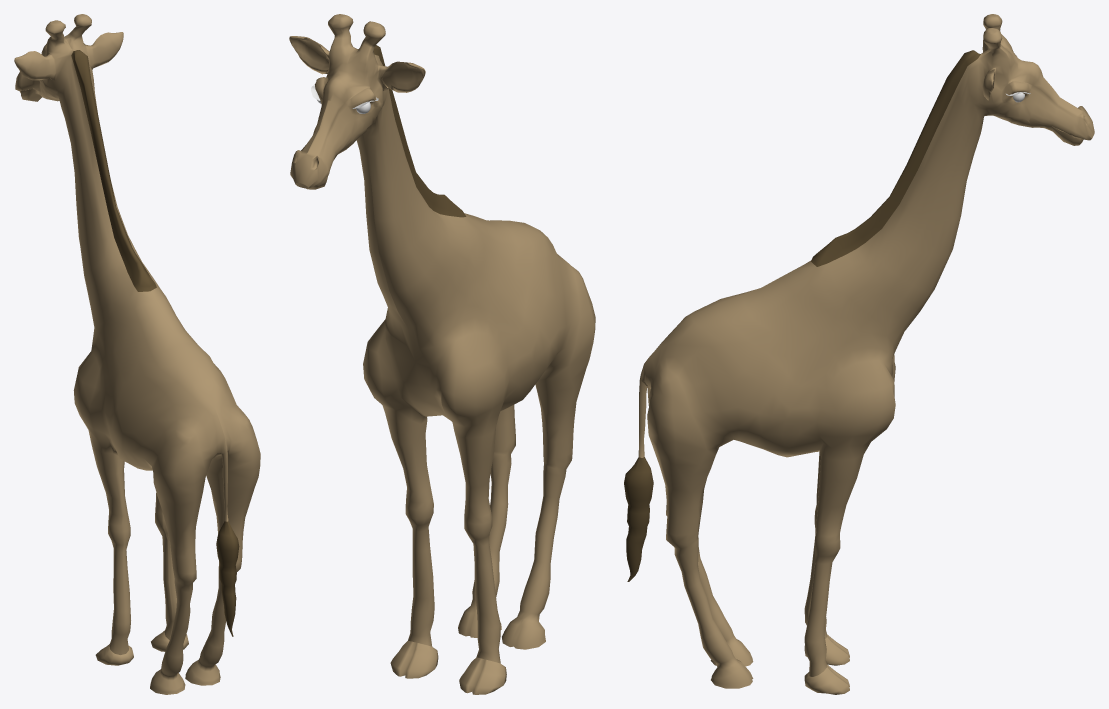
Rendered from CartoonGiraffe.fbx.
The picture shows the model from 3 angles, left to right: view 1: azimuth 30°, elevation 25°; view 2: azimuth 150°, elevation 25°; view 3: azimuth 270°, elevation 25°; orthographic projection. The views are drawn at different scales.
Parts seen in each view (by area): view 1: Giraffe2; view 2: Giraffe2; view 3: Giraffe2.
Boxes of the visible parts, <box> form: Giraffe2: <box>14,14,260,694</box>; Giraffe2: <box>289,14,595,694</box>; Giraffe2: <box>624,14,1094,694</box>.
Bounding box in the file's own units: 4.65 × 23.65 × 15.49.
